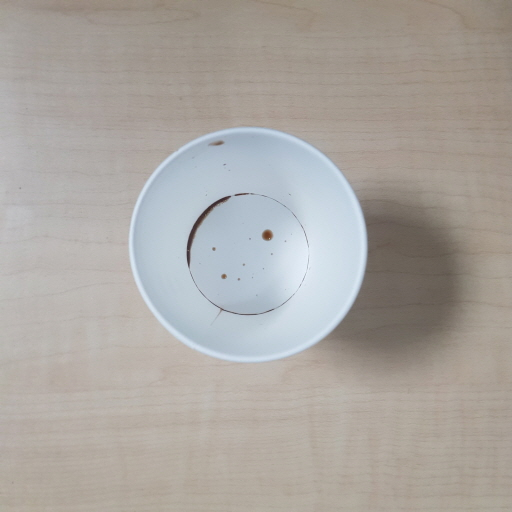Paper_1: (124, 128, 371, 365)
